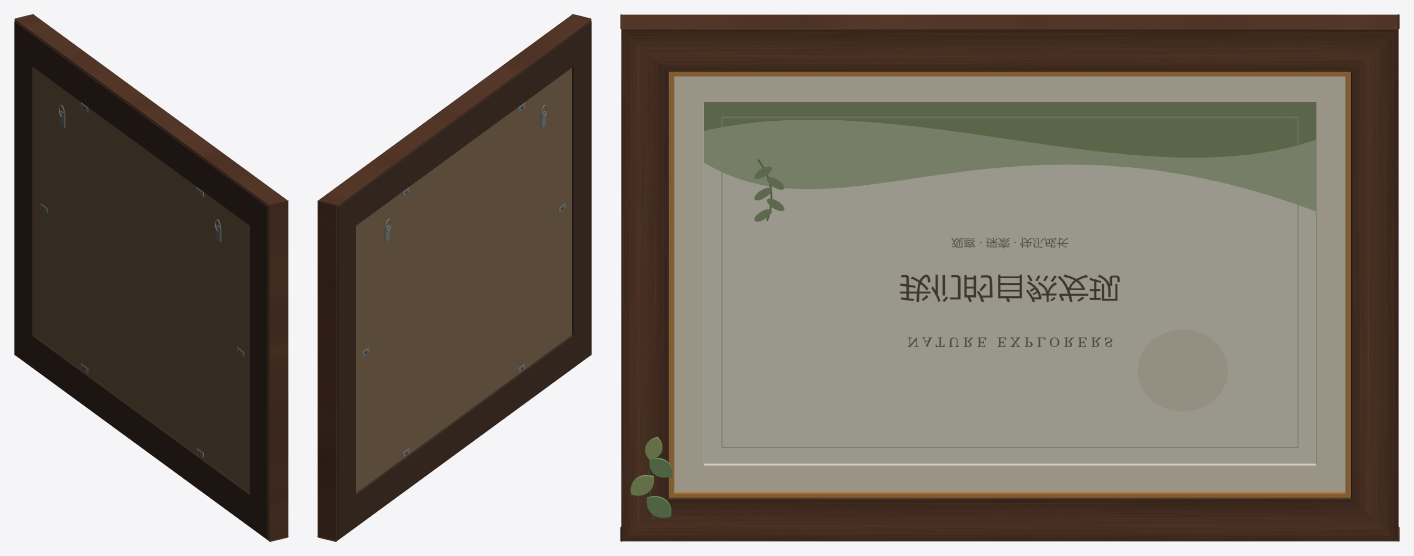
Rendered from kindergarten-frame.glb.
The picture shows the model from 3 angles, left to right: view 1: azimuth 30°, elevation 25°; view 2: azimuth 150°, elevation 25°; view 3: azimuth 270°, elevation 25°; orthographic projection. The views are drawn at different scales.
Parts seen in each view (by area): view 1: removable_rear_backing, rear_structural_frame, wood_rail_left, wood_rail_top; view 2: removable_rear_backing, rear_structural_frame, wood_rail_right, wood_rail_top; view 3: 照片, cream_photo_matboard, wood_rail_top, wood_rail_bottom, wood_rail_right, wood_rail_left, honey_orange_inner_bead.
Part boxes in pixels (x1=…): removable_rear_backing: x1=34, y1=68, x2=249, y2=492; rear_structural_frame: x1=14, y1=21, x2=268, y2=539; wood_rail_left: x1=268, y1=200, x2=288, y2=541; wood_rail_top: x1=15, y1=14, x2=288, y2=205; removable_rear_backing: x1=356, y1=68, x2=571, y2=492; rear_structural_frame: x1=337, y1=21, x2=591, y2=539; wood_rail_right: x1=317, y1=200, x2=337, y2=541; wood_rail_top: x1=317, y1=14, x2=590, y2=205; 照片: x1=704, y1=102, x2=1315, y2=463; cream_photo_matboard: x1=674, y1=76, x2=1345, y2=491; wood_rail_top: x1=620, y1=14, x2=1399, y2=71; wood_rail_bottom: x1=620, y1=497, x2=1399, y2=541; wood_rail_right: x1=1351, y1=14, x2=1398, y2=541; wood_rail_left: x1=621, y1=14, x2=668, y2=541; honey_orange_inner_bead: x1=669, y1=71, x2=1350, y2=497.
Size of the model in its own units: 0.0466 by 0.6437 by 0.8837.
Materials: 11 (2 with a texture image).
